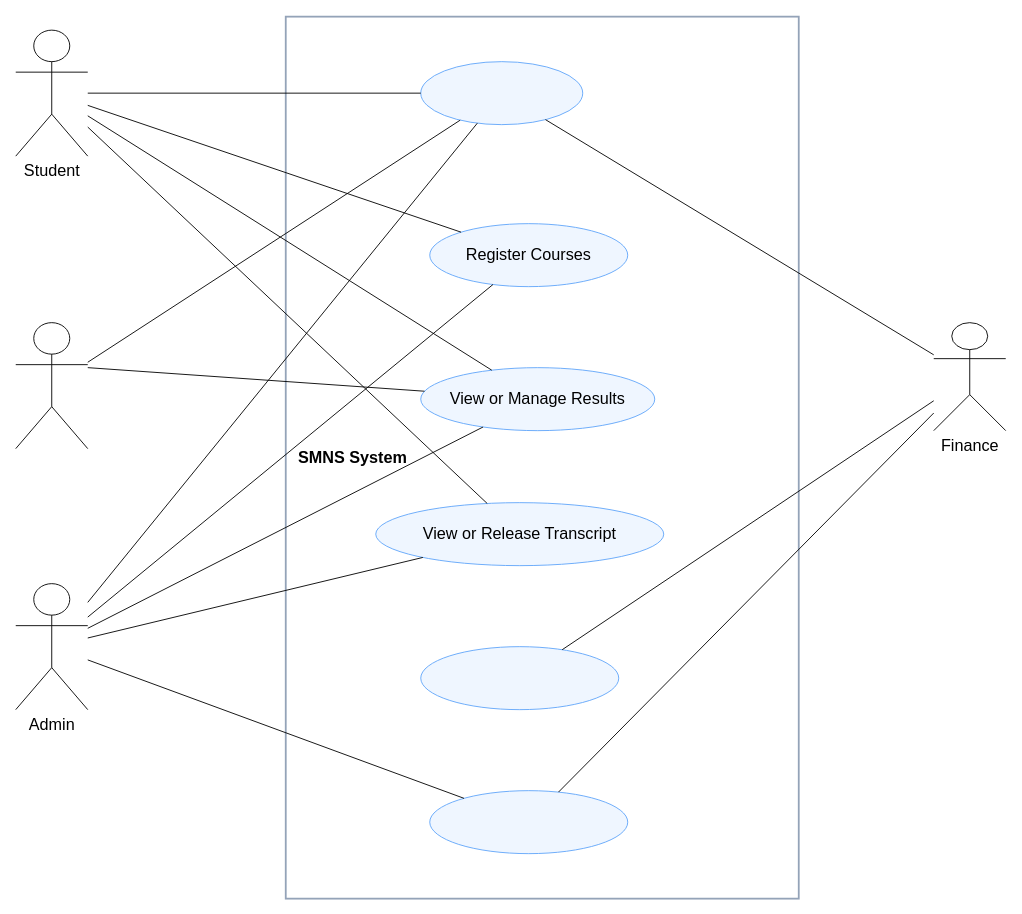
The diagram is 1022 pixels wide and 914 high, and some of its shapes have lost their labels. Each missing label, with the centre of its shape:
Generate Reports: the point at 528,822
Lecturer: the point at 51,385
Login: the point at 501,93
Manage Payments: the point at 519,678
